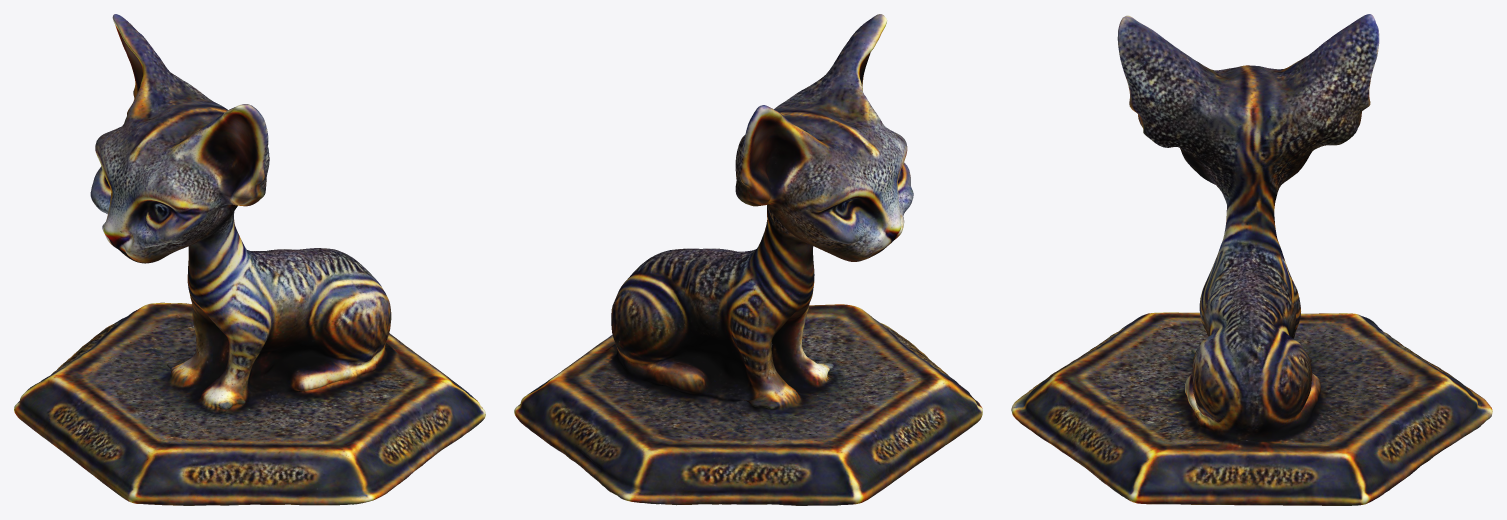
Rendered from King_Alt-Sphynx.glb.
3 views of the same model, side by side, from view 1: azimuth 30°, elevation 25°; view 2: azimuth 150°, elevation 25°; view 3: azimuth 270°, elevation 25° (orthographic).
Parts seen in each view (by area): view 1: high_poly; view 2: high_poly; view 3: high_poly.
Part boxes in pixels (x1=…): high_poly: x1=14, y1=14, x2=485, y2=505; high_poly: x1=514, y1=14, x2=982, y2=505; high_poly: x1=1011, y1=14, x2=1492, y2=505.
Size of the model in its own units: 0.8491 by 0.8525 by 1.
1 material, 1 textured.
